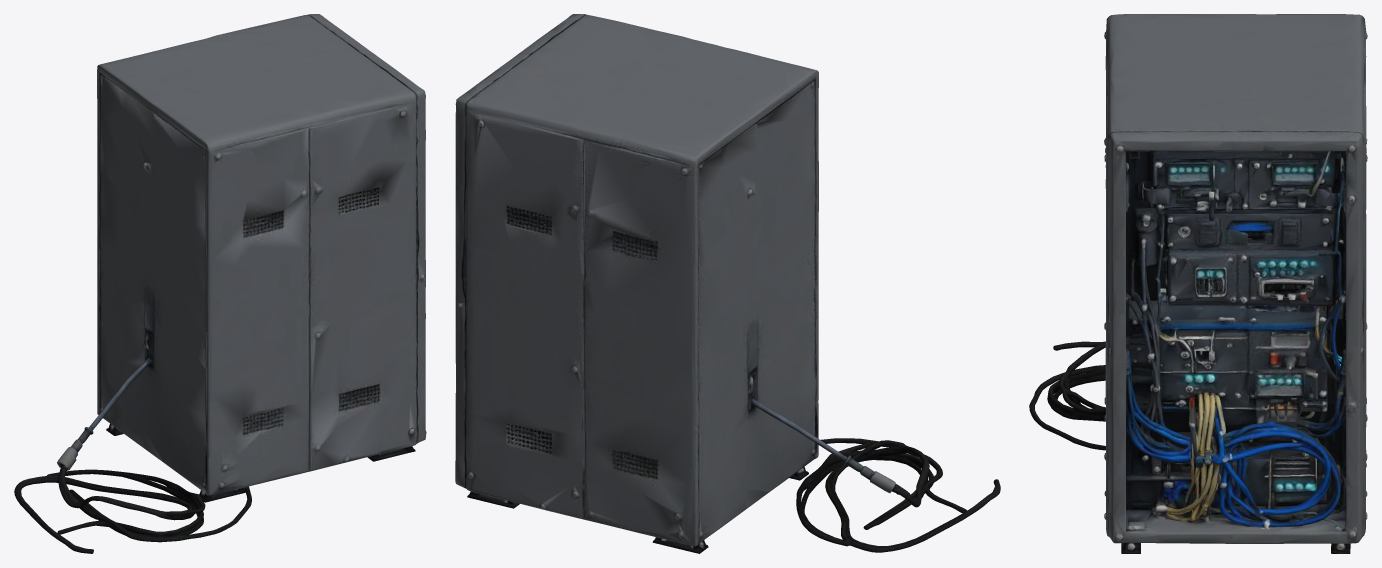
The model's file is consoles-2.glb.
3 renders of one model, left to right at view 1: azimuth 30°, elevation 25°; view 2: azimuth 150°, elevation 25°; view 3: azimuth 270°, elevation 25°, orthographic. The views are drawn at different scales.
Parts seen in each view (by area): view 1: tripo_node_c386b1d8-0b84-4a77-bb0a-13a322b8c47d; view 2: tripo_node_c386b1d8-0b84-4a77-bb0a-13a322b8c47d; view 3: tripo_node_c386b1d8-0b84-4a77-bb0a-13a322b8c47d.
Boxes of the visible parts, <box> form: tripo_node_c386b1d8-0b84-4a77-bb0a-13a322b8c47d: <box>14,14,426,553</box>; tripo_node_c386b1d8-0b84-4a77-bb0a-13a322b8c47d: <box>455,14,1000,553</box>; tripo_node_c386b1d8-0b84-4a77-bb0a-13a322b8c47d: <box>1029,14,1367,553</box>.
Bounding box in the file's own units: 0.9995 × 0.9334 × 0.6794.
Materials: 1 (1 with a texture image).
